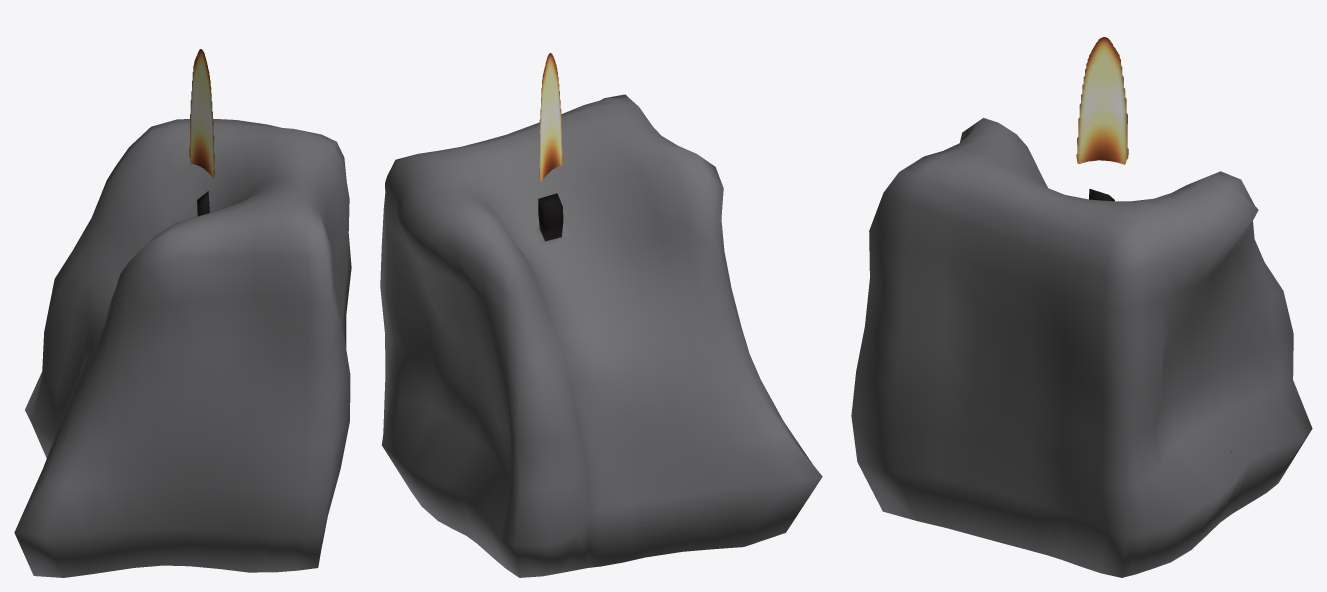
File: candle small.fbx
3 views of the same model, side by side, from view 1: azimuth 30°, elevation 25°; view 2: azimuth 150°, elevation 25°; view 3: azimuth 270°, elevation 25° (orthographic). The views are drawn at different scales.
Parts seen in each view (by area): view 1: candle small, candlie small_flame; view 2: candle small, candlie small_flame; view 3: candle small, candlie small_flame.
Boxes of the visible parts, box(x1,y1,x2,y2) form: candle small: box(14, 118, 351, 577); candlie small_flame: box(189, 49, 214, 178); candle small: box(380, 94, 822, 577); candlie small_flame: box(539, 53, 562, 182); candle small: box(851, 118, 1312, 577); candlie small_flame: box(1076, 37, 1128, 164).
Size of the model in its own units: 0.0914 by 0.1075 by 0.089.
2 materials, 2 textured.
